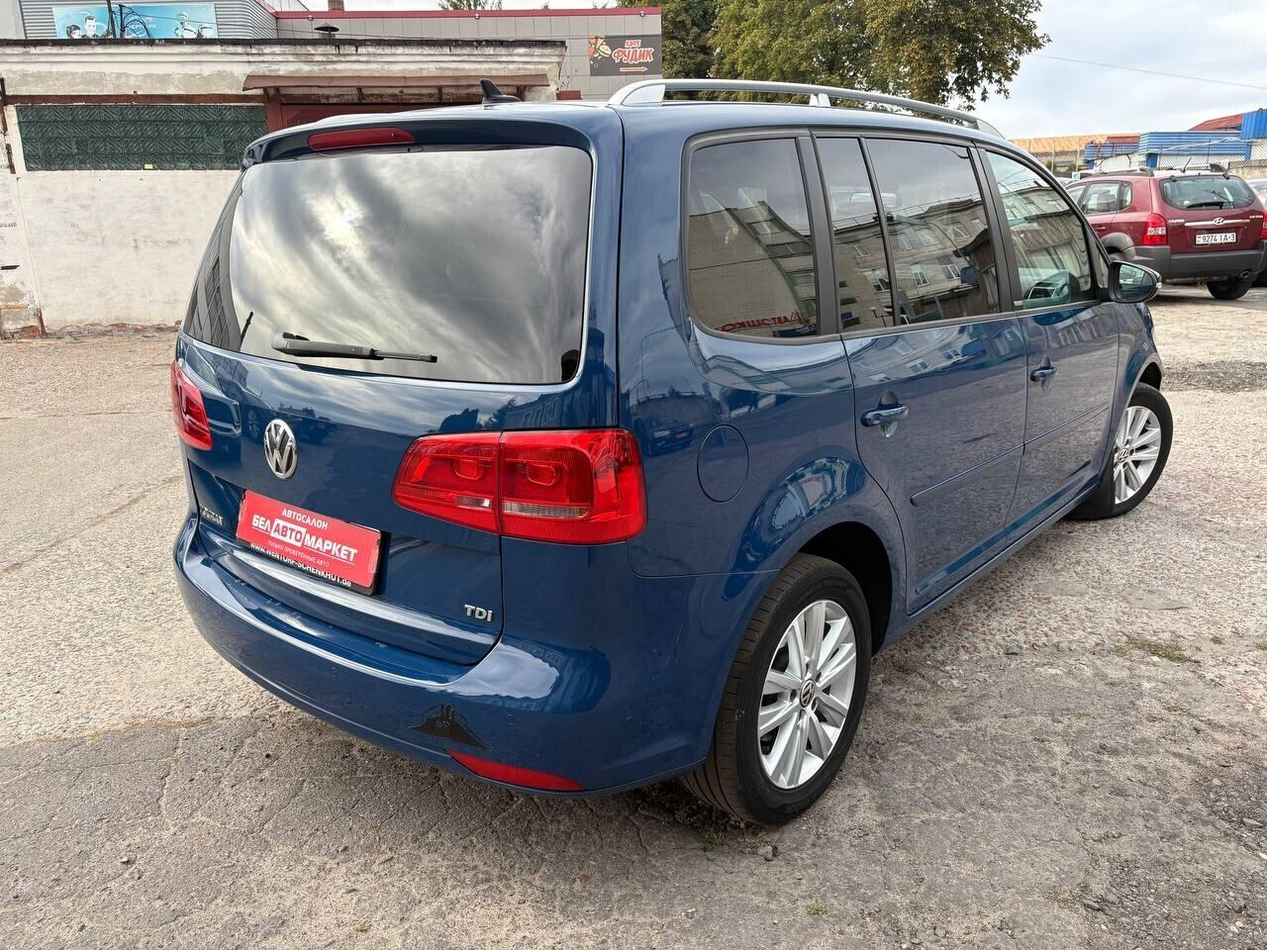Touran_2010-2015: (170, 96, 1174, 835)
